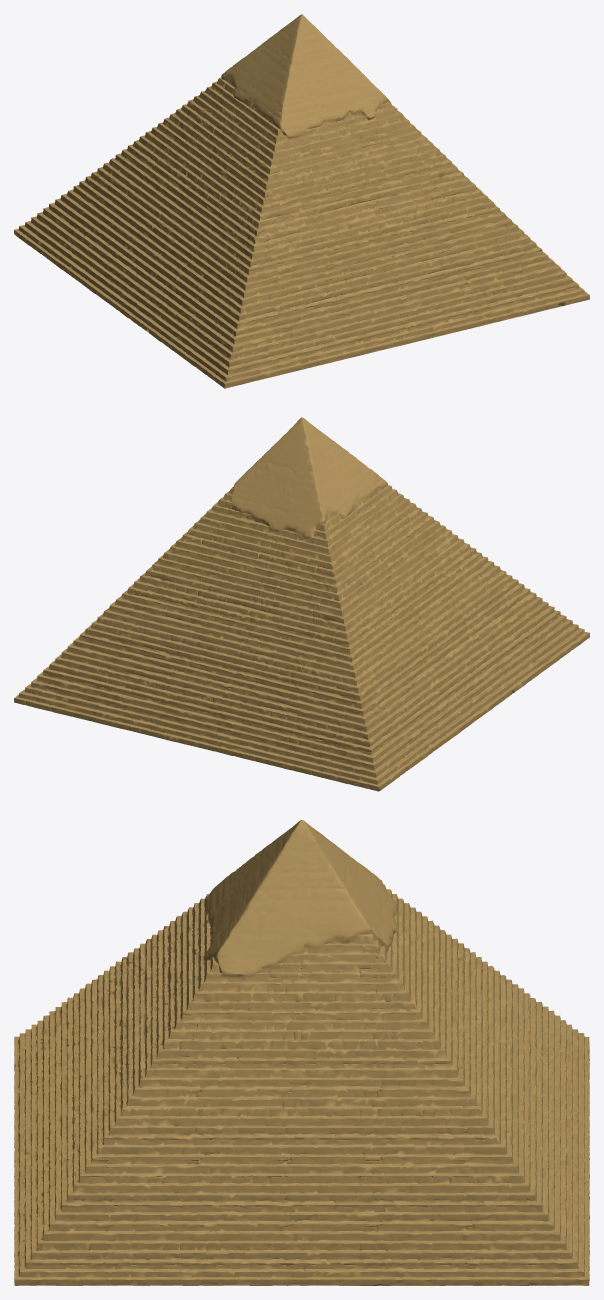
The model's file is piramid.glb.
3 views of the same model, one above another, from view 1: azimuth 30°, elevation 25°; view 2: azimuth 150°, elevation 25°; view 3: azimuth 270°, elevation 25° (orthographic). The views are drawn at different scales.
Visible parts, largest first — view 1: Object_2, Object_3; view 2: Object_2, Object_3; view 3: Object_2, Object_3.
Part boxes in pixels (box(x1,y1,x2,y2)): Object_2: box(14, 14, 589, 388); Object_3: box(14, 23, 582, 381); Object_2: box(14, 417, 589, 791); Object_3: box(16, 431, 580, 790); Object_2: box(14, 820, 589, 1285); Object_3: box(14, 833, 589, 1285).
Bounding box in the file's own units: 29.25 × 19.28 × 29.25.
